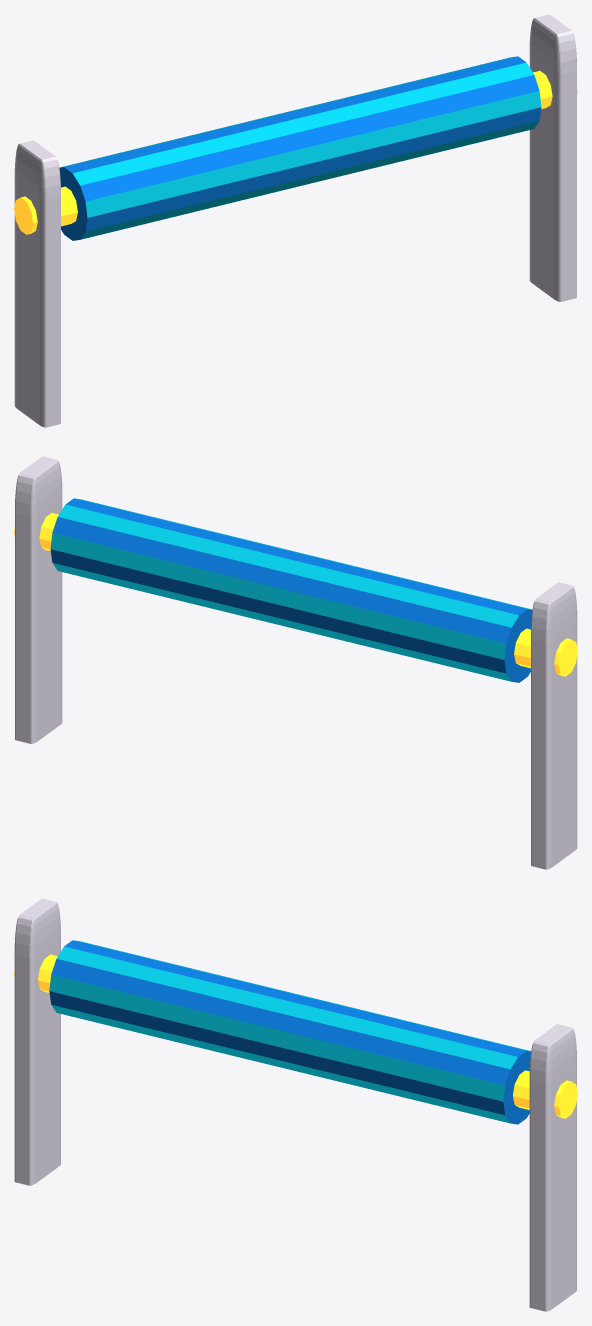
The model's file is engel2.fbx.
3 renders of one model, top to bottom at view 1: azimuth 30°, elevation 25°; view 2: azimuth 150°, elevation 25°; view 3: azimuth 330°, elevation 25°, orthographic.
Parts seen in each view (by area): view 1: Cylinder.001, Cube.001; view 2: Cylinder.001, Cube.001; view 3: Cylinder.001, Cube.001.
Part boxes in pixels (<box>): Cylinder.001: <box>14,56,577,240</box>; Cube.001: <box>14,14,576,427</box>; Cylinder.001: <box>14,498,577,682</box>; Cube.001: <box>15,456,577,869</box>; Cylinder.001: <box>14,940,577,1124</box>; Cube.001: <box>14,898,576,1311</box>.
Size of the model in its own units: 197 by 91.38 by 23.9.
